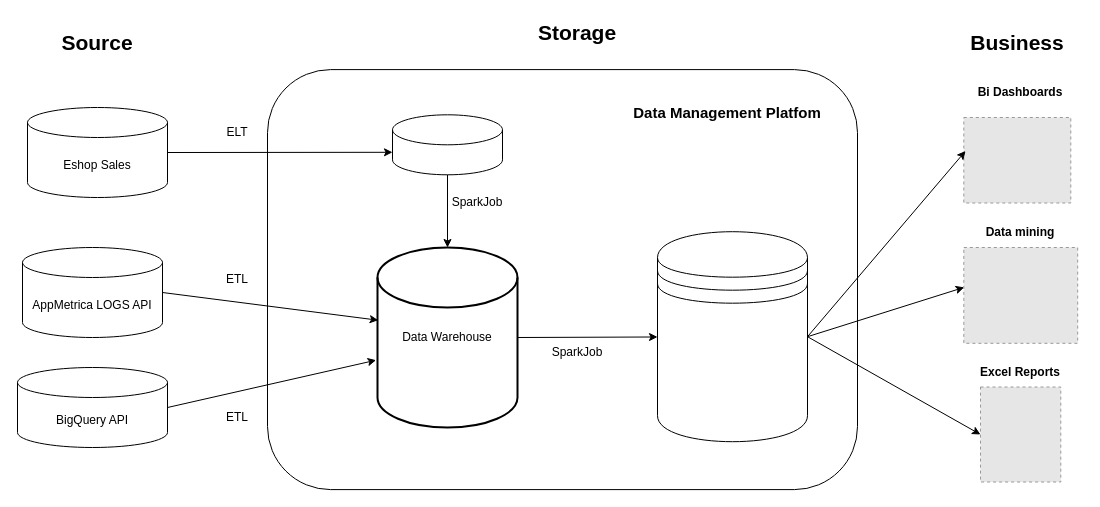
Some shapes in this 1100 by 507 pixel diagram are drawn without their labels. Grey dashed boxes stand in for pictures. Each missing label, with the centre of its shape:
"Data Marts" belongs at point 732,336.
"Postgres" belongs at point 447,144.
